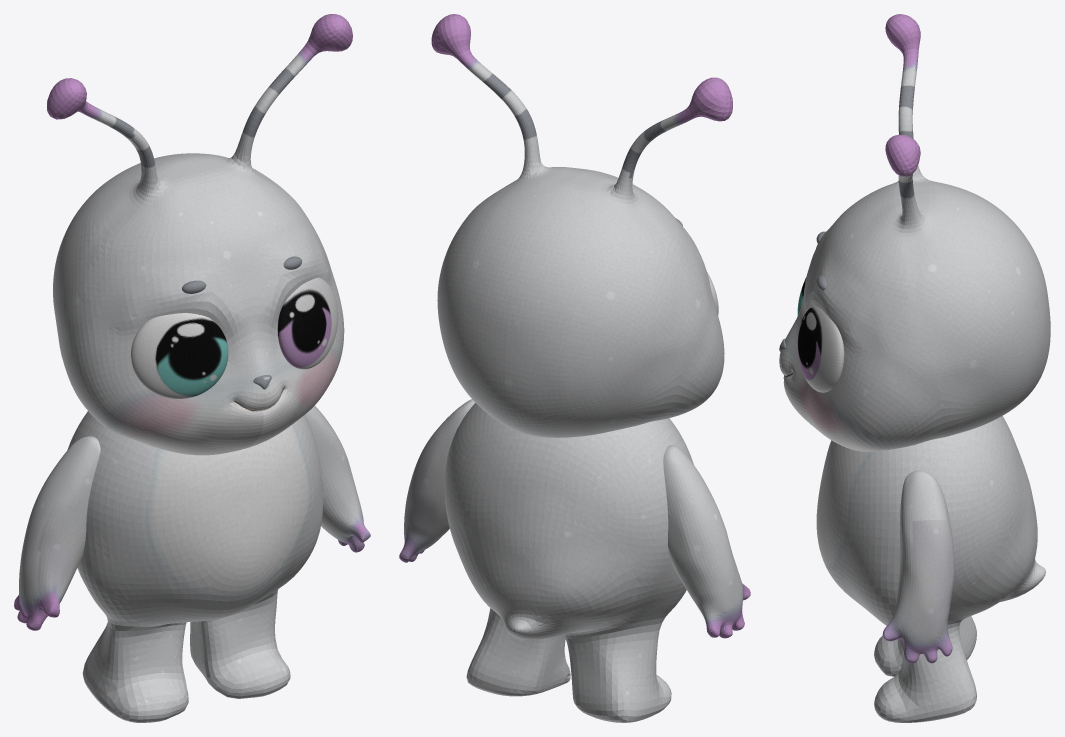
3 renders of one model, left to right at view 1: azimuth 30°, elevation 25°; view 2: azimuth 150°, elevation 25°; view 3: azimuth 270°, elevation 25°, orthographic. The views are drawn at different scales.
Visible parts, largest first — view 1: kopf_Group28799, koerper_Group1295, koerper_Group16781, kopf_Group40015; view 2: kopf_Group28799, koerper_Group1295, koerper_Group16781; view 3: kopf_Group28799, koerper_Group1295, koerper_Group16781, kopf_Group40015.
Part boxes in pixels (bbox=[...]): kopf_Group28799: bbox=[47, 14, 352, 455]; koerper_Group1295: bbox=[67, 411, 323, 722]; koerper_Group16781: bbox=[14, 405, 370, 630]; kopf_Group40015: bbox=[131, 277, 338, 398]; kopf_Group28799: bbox=[431, 14, 732, 437]; koerper_Group1295: bbox=[444, 403, 693, 722]; koerper_Group16781: bbox=[399, 399, 750, 638]; kopf_Group28799: bbox=[779, 14, 1050, 451]; koerper_Group1295: bbox=[816, 416, 1045, 722]; koerper_Group16781: bbox=[882, 470, 954, 663]; kopf_Group40015: bbox=[797, 277, 844, 392].
Bounding box in the file's own units: 0.4408 × 0.82 × 0.3292.
Materials: 1 (1 with a texture image).
